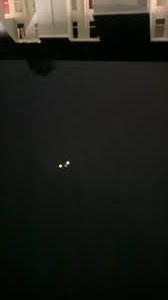Plane: (52, 152, 77, 179)
